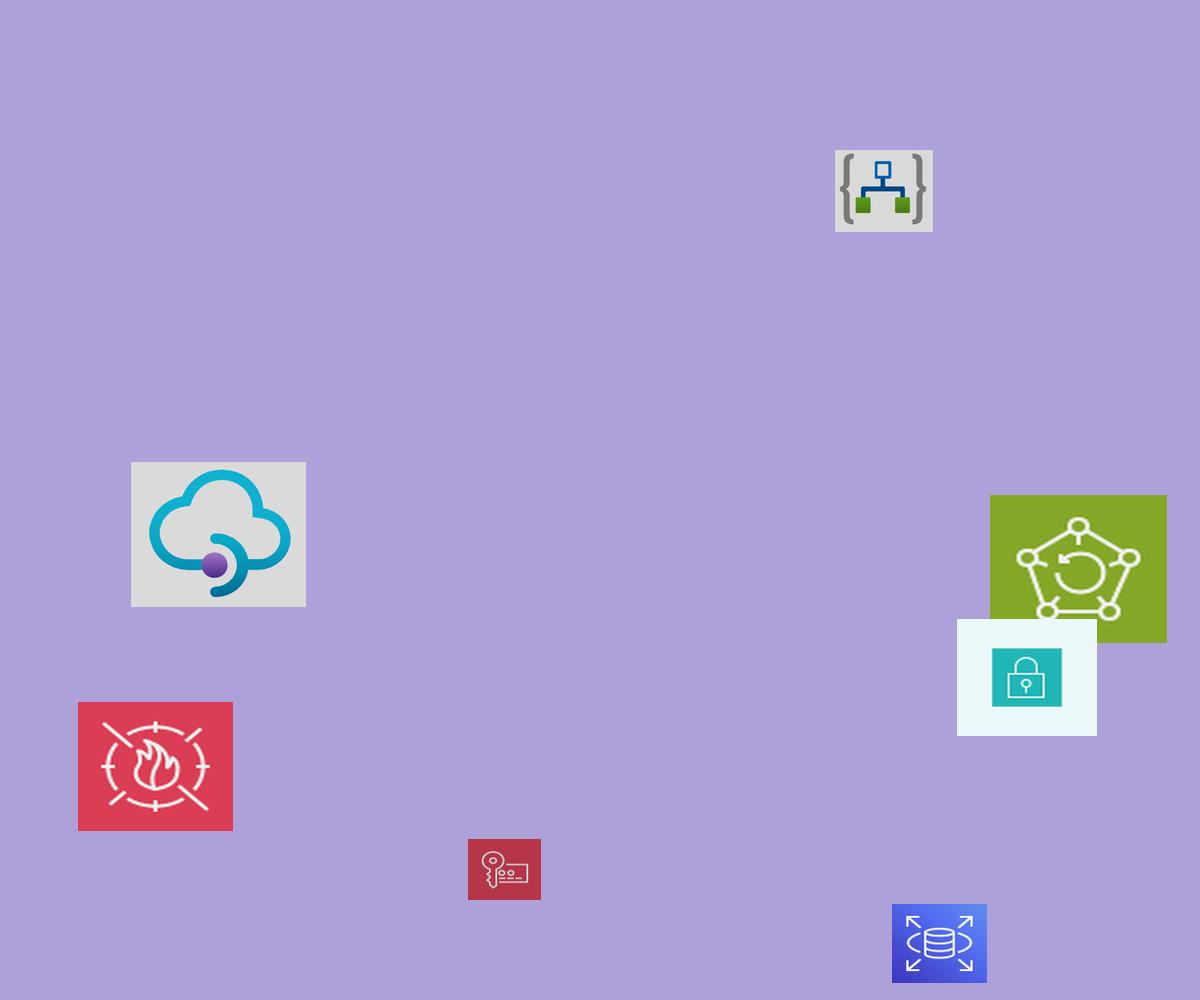AWS-Backup: (990, 495, 1167, 643)
AWS-Key-Management-Service: (468, 839, 541, 900)
AWS-Private-subnet: (957, 619, 1097, 736)
AWS-RDS: (892, 904, 987, 983)
AWS-WAF: (78, 702, 233, 831)
Azure_api_gateway: (131, 462, 306, 607)
Azure_integration-204-Logic-Apps: (835, 150, 933, 232)
